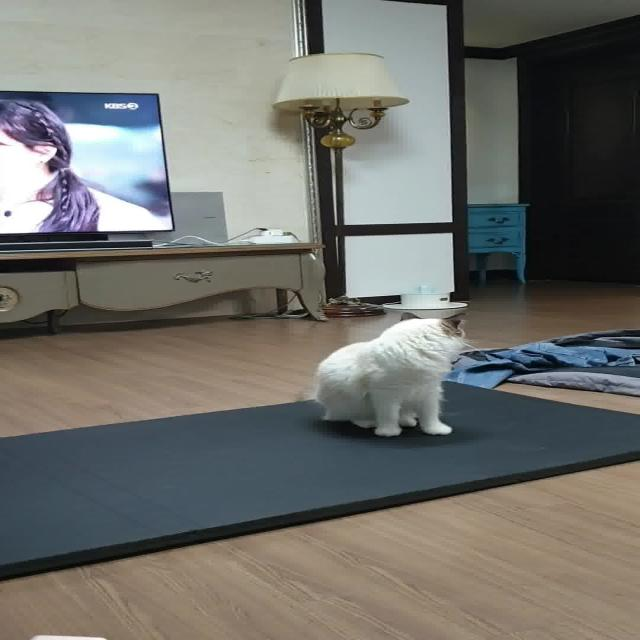cat: (292, 300, 481, 444)
